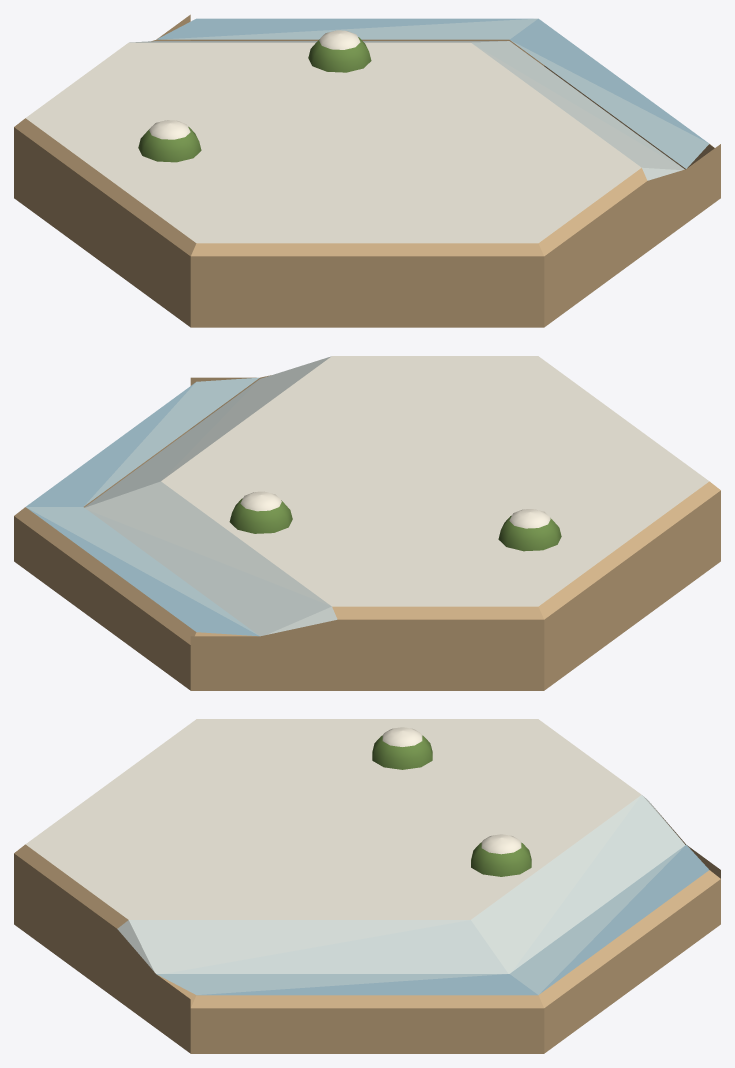
File: coast_two_sides_snow_2.fbx
The picture shows the model from 3 angles, top to bottom: view 1: azimuth 30°, elevation 25°; view 2: azimuth 150°, elevation 25°; view 3: azimuth 270°, elevation 25°; orthographic projection.
Visible parts, largest first — view 1: coast_two_sides_snow_2; view 2: coast_two_sides_snow_2; view 3: coast_two_sides_snow_2.
Boxes of the visible parts, x1,y1,x2,y2 form: coast_two_sides_snow_2: [14, 14, 720, 327]; coast_two_sides_snow_2: [14, 356, 720, 690]; coast_two_sides_snow_2: [14, 719, 720, 1053].
Size of the model in its own units: 1.73 by 0.331 by 2.
